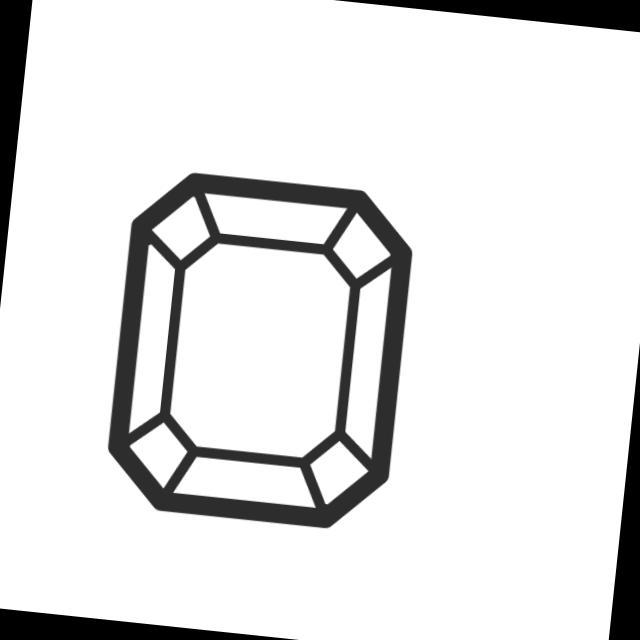emerald: (93, 159, 425, 545)
